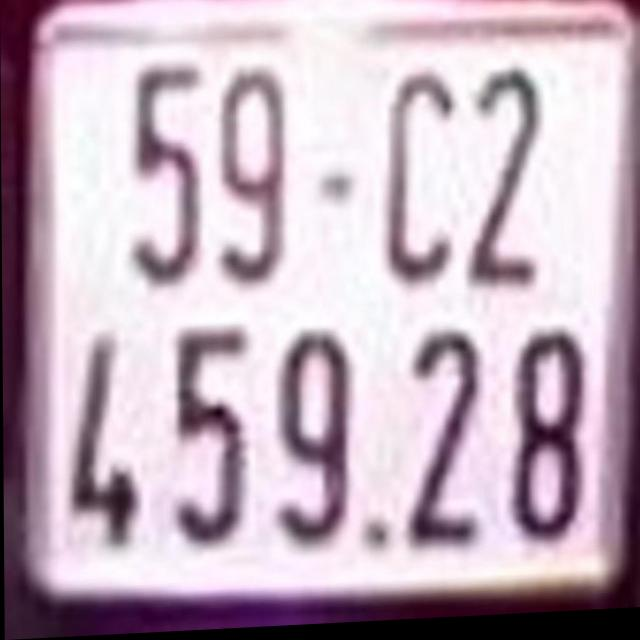2: (407, 331, 488, 555), (470, 71, 541, 295)
4: (67, 326, 142, 556)
5: (167, 322, 247, 552), (130, 60, 205, 290)
8: (511, 333, 585, 553)
9: (272, 327, 353, 553), (216, 67, 286, 287)
C: (380, 68, 457, 292)
